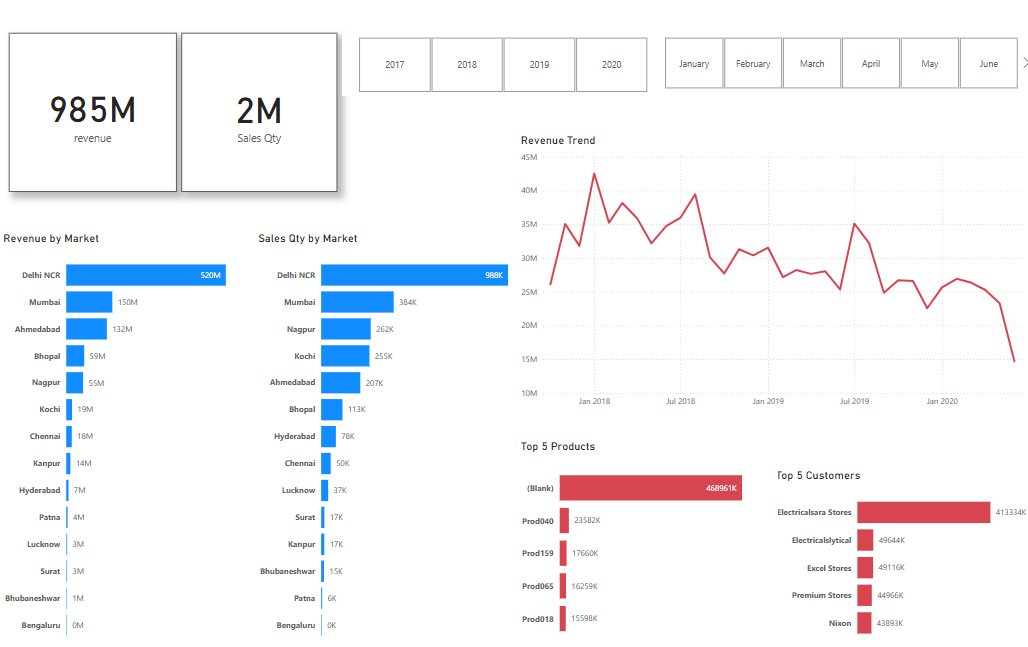

What the dashboard file says about the page in this screenshot:
{"tool":"powerbi","page":{"name":"Page 1","canvas":[1550,1000],"ordinal":0},"visuals":[{"type":"card","fields":{"Values":["Measure data.revenue"]},"box":[13.4,75.4,251.3,237.9],"z":0},{"type":"card","fields":{"Values":["Measure data.Sales Qty"]},"box":[272.7,75.9,233,238.2],"z":1000},{"type":"barChart","title":"Revenue by Market","fields":{"Y":["Measure data.revenue"],"Category":["sales markets.markets_name"]},"box":[0,372.8,381.5,628.3],"z":2000},{"type":"barChart","title":"Sales Qty by Market","fields":{"Y":["Measure data.Sales Qty"],"Category":["sales markets.markets_name"]},"box":[381.5,372.8,416,628.3],"z":3000},{"type":"barChart","title":"Top 5 Customers","fields":{"Category":["sales customers.custmer_name"],"Y":["Measure data.revenue"]},"box":[1158.2,728.4,391.8,271],"z":4000},{"type":"barChart","title":"Top 5 Products","fields":{"Y":["Measure data.revenue"],"Category":["sales products.product_code"]},"box":[775.8,687,390.4,313.3],"z":5000},{"type":"lineChart","title":"Revenue Trend","fields":{"Y":["Measure data.revenue"],"Category":["sales date.date.Variation.Date Hierarchy.Year","sales date.date.Variation.Date Hierarchy.Month"]},"box":[775.8,227.9,774.1,418.9],"z":6000},{"type":"slicer","fields":{"Values":["sales date.date.Variation.Date Hierarchy.Year"]},"box":[512.6,75.9,481.6,94.9],"z":7000},{"type":"slicer","fields":{"Values":["sales date.date_yy_mmm.Variation.Date Hierarchy.Month"]},"box":[971.8,75.9,578.2,89.8],"z":8000}]}

Visuals, with their boxes in screenshot pixels (x1, y1, x2, y2), scaled from the page's 1550x1000 canvas onto the 1028x647 screenshot:
card - Measure data.revenue: <box>9,49,176,203</box>
card - Measure data.Sales Qty: <box>181,49,335,203</box>
"Revenue by Market" barChart: <box>0,241,253,646</box>
"Sales Qty by Market" barChart: <box>253,241,529,646</box>
"Top 5 Customers" barChart: <box>768,471,1027,646</box>
"Top 5 Products" barChart: <box>515,444,773,646</box>
"Revenue Trend" lineChart: <box>515,147,1027,418</box>
slicer - sales date.date.Variation.Date Hierarchy.Year: <box>340,49,659,111</box>
slicer - sales date.date_yy_mmm.Variation.Date Hierarchy.Month: <box>645,49,1027,107</box>
